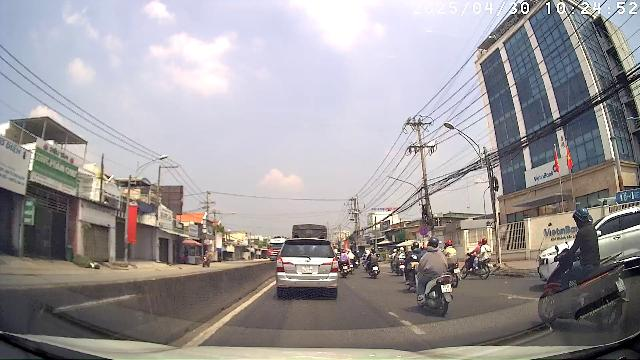130-cam-dung-va-do-xe: (419, 227, 428, 236)
